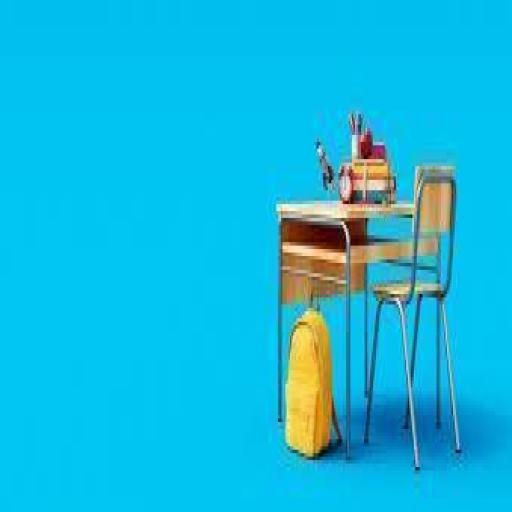chair: (369, 159, 468, 478)
